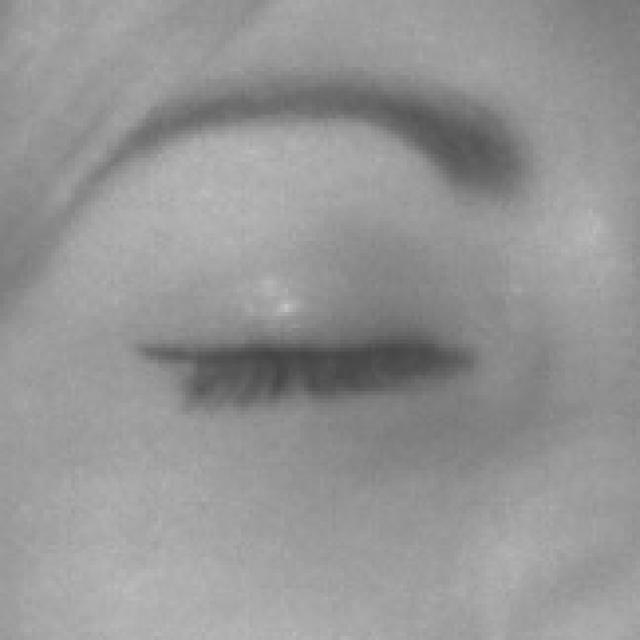Eyeclosed: (116, 210, 490, 499)
